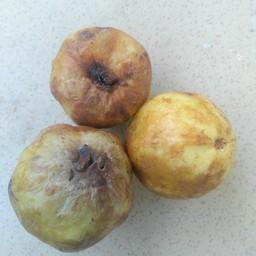Bad_guava: (8, 124, 135, 253), (132, 88, 233, 202), (47, 25, 154, 128)
